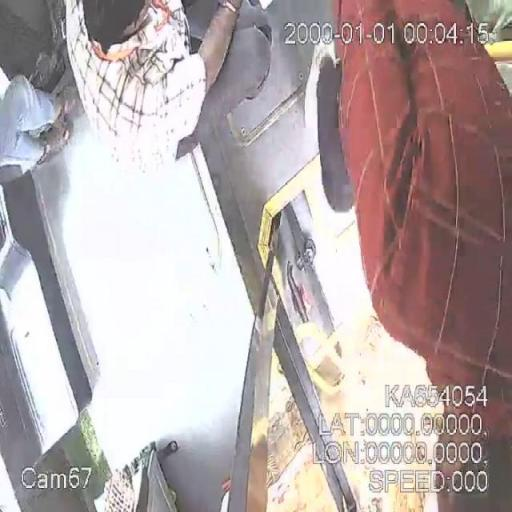persona: (330, 0, 511, 510), (62, 0, 245, 174)
